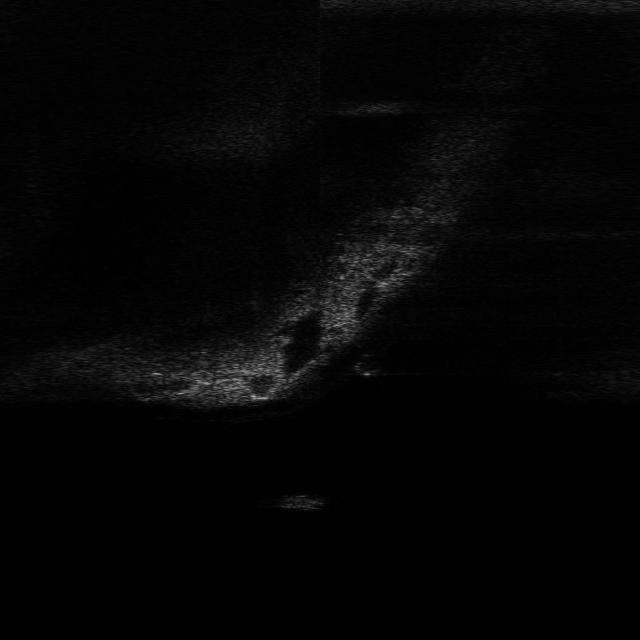ball: (348, 350, 388, 377)
cube: (269, 491, 332, 514)
